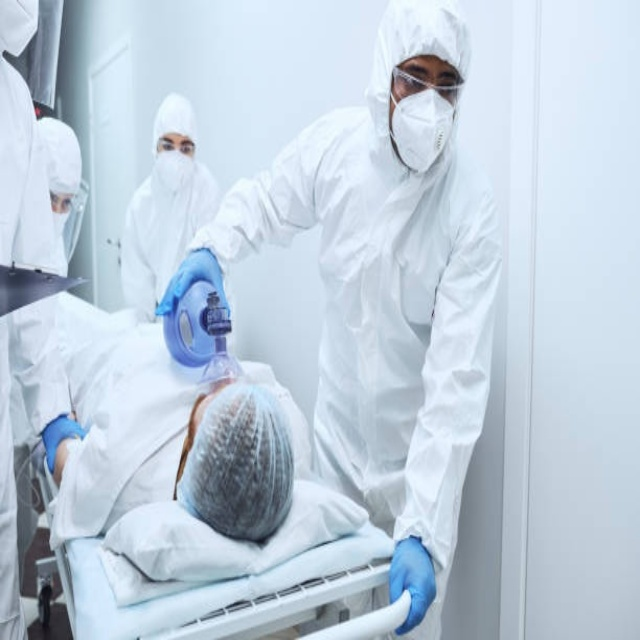Gafas: (392, 66, 461, 104), (158, 139, 194, 158), (50, 193, 74, 213)
Guantes: (155, 247, 227, 319), (389, 535, 436, 637), (40, 412, 88, 476)
Mascara: (389, 80, 455, 172), (0, 0, 38, 57), (153, 149, 194, 194), (51, 201, 72, 240)
